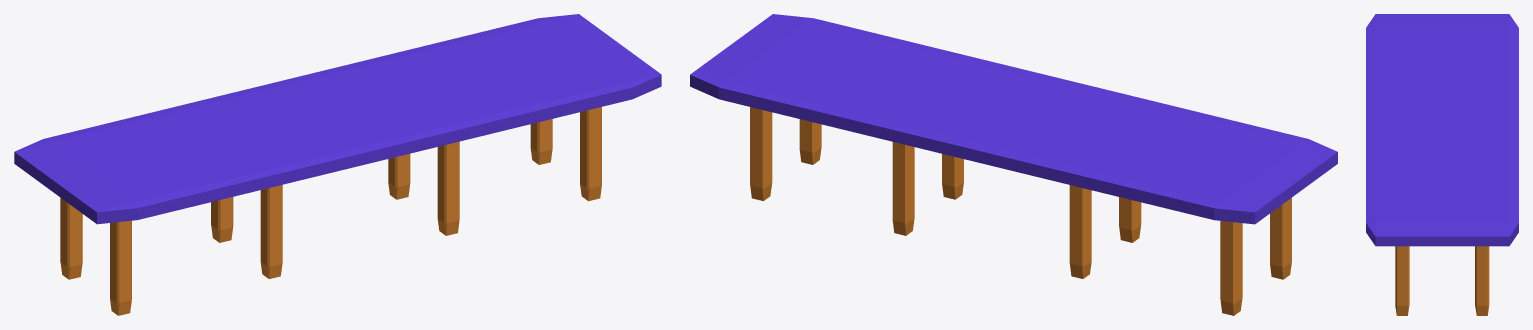
File: table2.fbx
3 views of the same model, side by side, from view 1: azimuth 30°, elevation 25°; view 2: azimuth 150°, elevation 25°; view 3: azimuth 270°, elevation 25° (orthographic). The views are drawn at different scales.
Visible parts, largest first — view 1: Cube.004, Cube, Cube.001; view 2: Cube.004, Cube, Cube.001; view 3: Cube.004, Cube.
Boxes of the visible parts, left/top/right/bottom form: Cube.004: left=14, top=14, right=661, bottom=224; Cube: left=60, top=107, right=601, bottom=315; Cube.001: left=211, top=141, right=459, bottom=278; Cube.004: left=690, top=14, right=1337, bottom=224; Cube: left=750, top=107, right=1291, bottom=315; Cube.001: left=892, top=142, right=1141, bottom=278; Cube.004: left=1366, top=14, right=1518, bottom=246; Cube: left=1395, top=246, right=1489, bottom=315.
Bounding box in the file's own units: 4321 × 896 × 1253.
